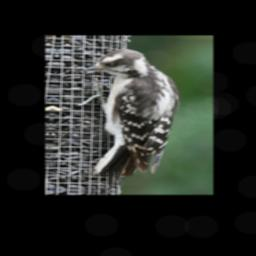Woodpecker: (69, 47, 183, 183)
